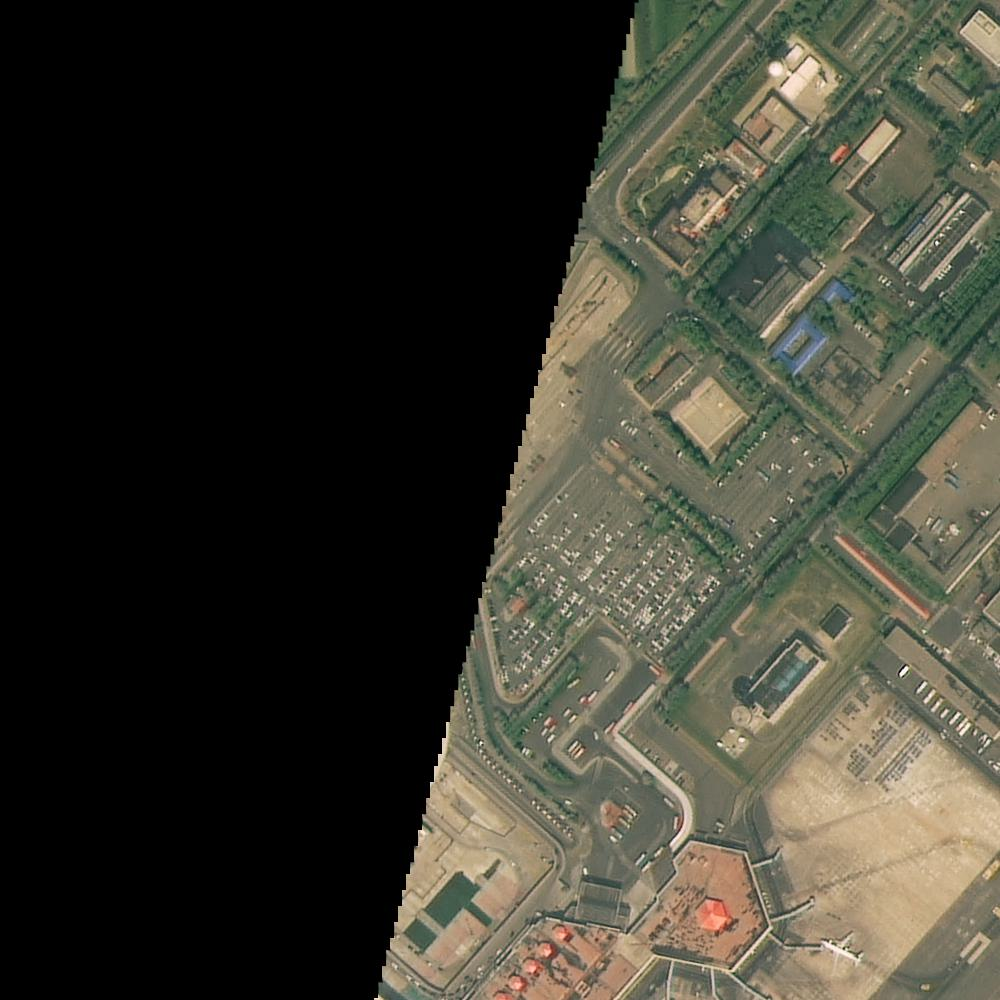A2: (255, 435, 362, 554), (320, 259, 425, 366), (400, 110, 507, 212)
